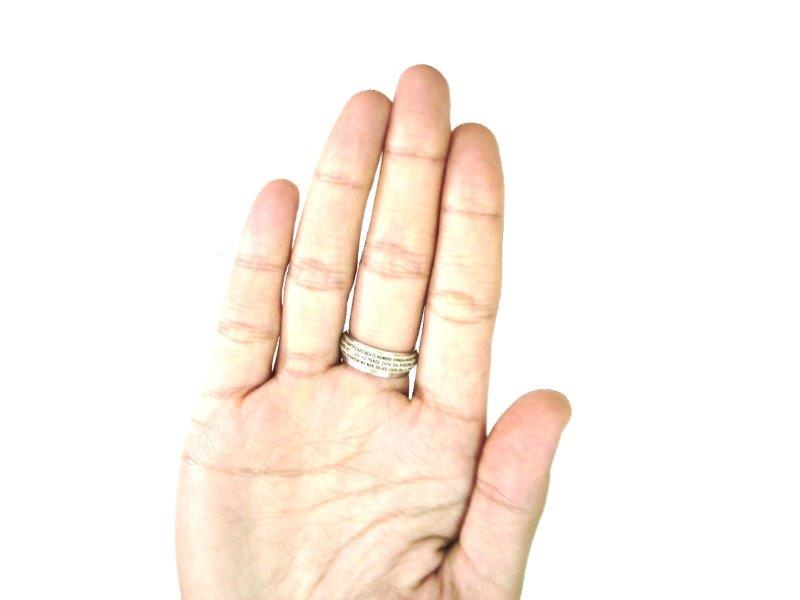hand: (174, 66, 570, 595)
